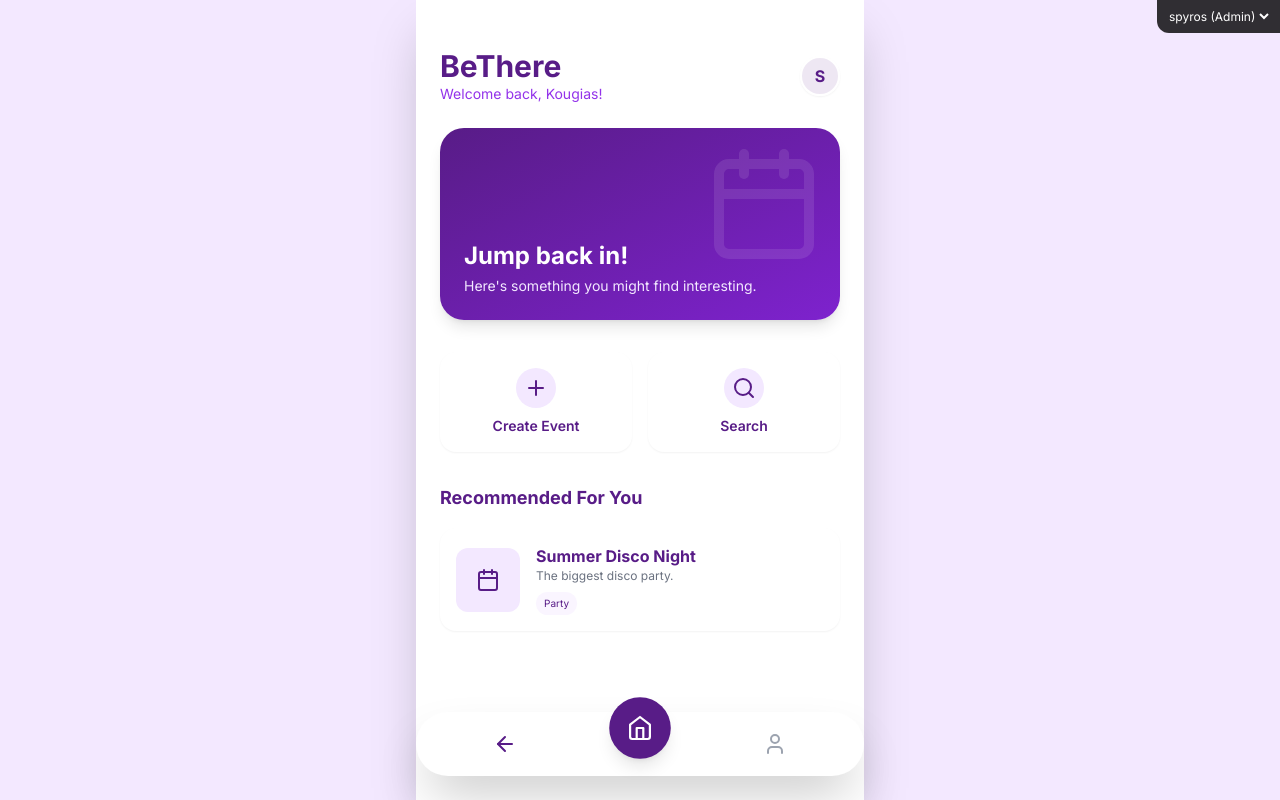
Test: Deliverable 2: User Flows (Frontend Only) › Flow 5 (Happy): User vouches for an event and then unvouches it
Click the heading "Summer Disco Night".
click(616, 556)  # box [536,546,696,566]
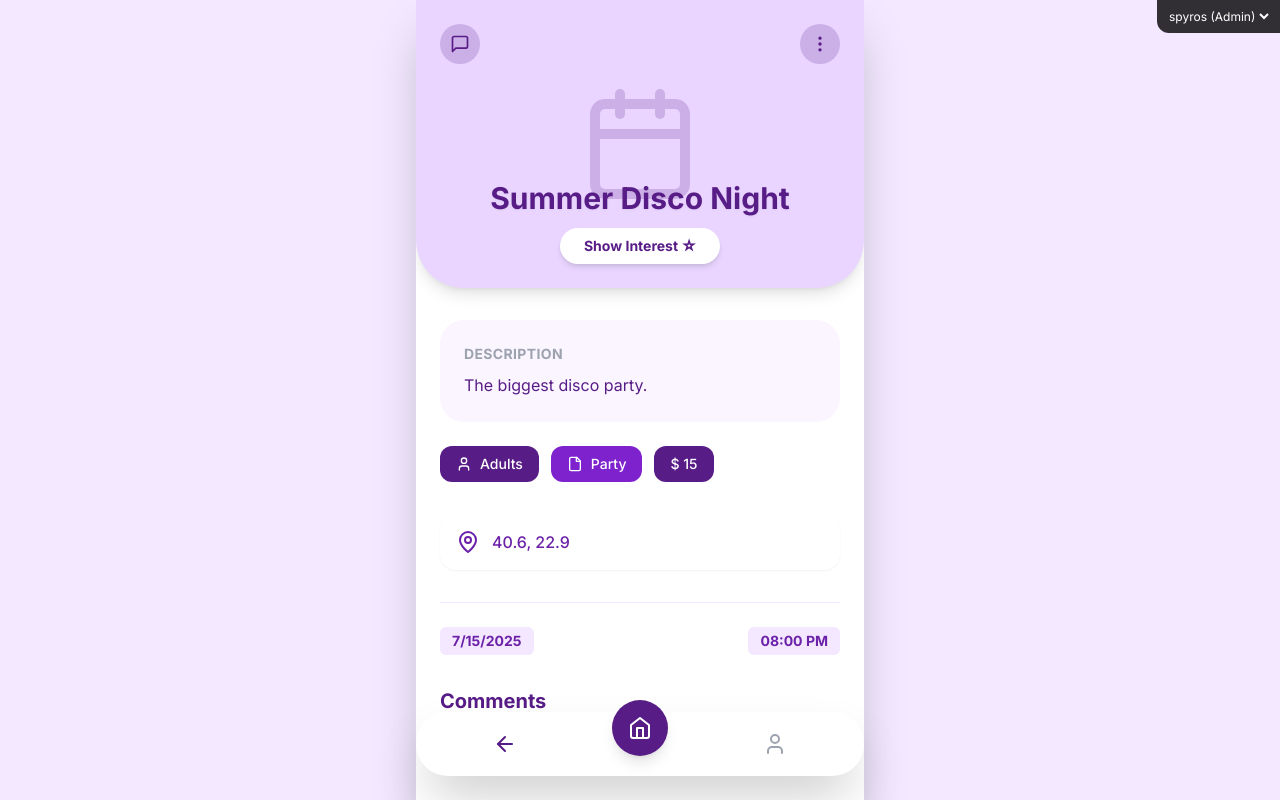
Click the 2nd button.
click(820, 44)  # box [800,24,840,64]
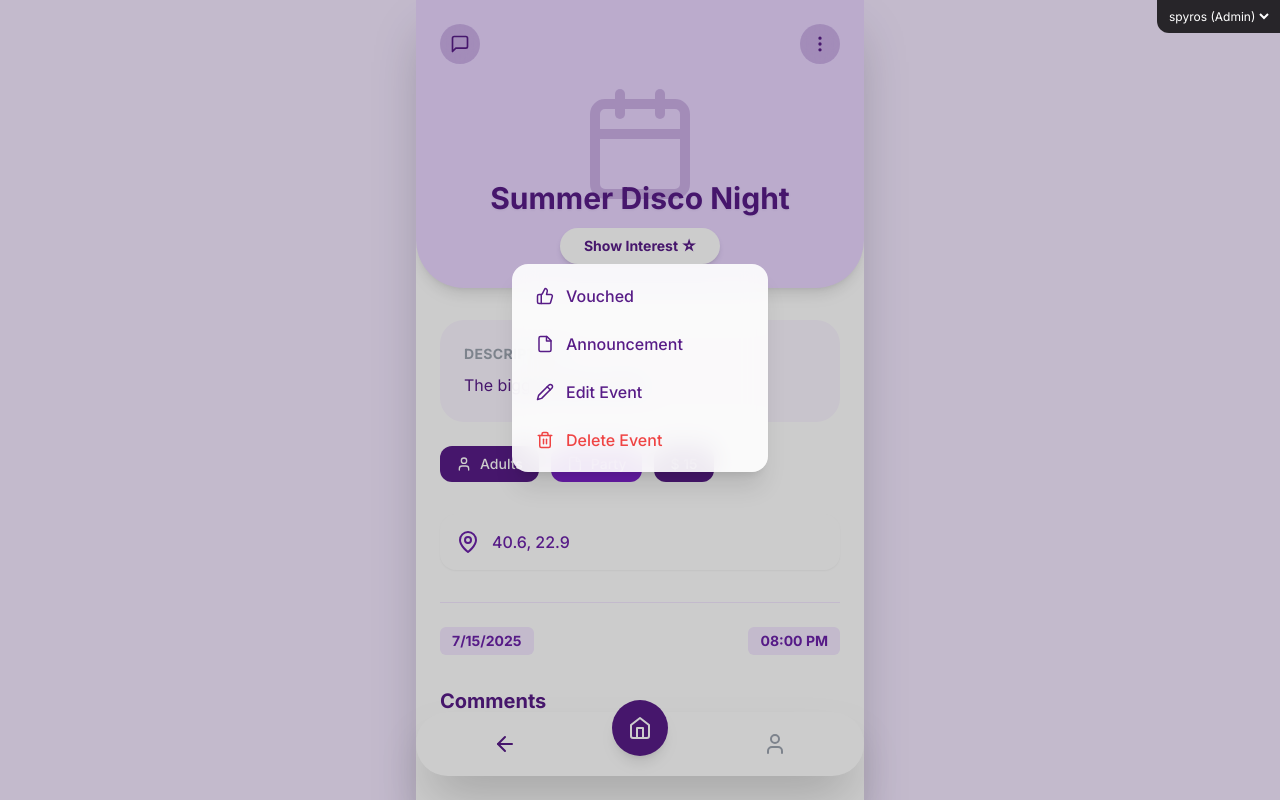
Expected: the button "Vouched" is shown
// Click Vouch
Click the button "Vouched".
click(640, 296)  # box [520,272,760,320]
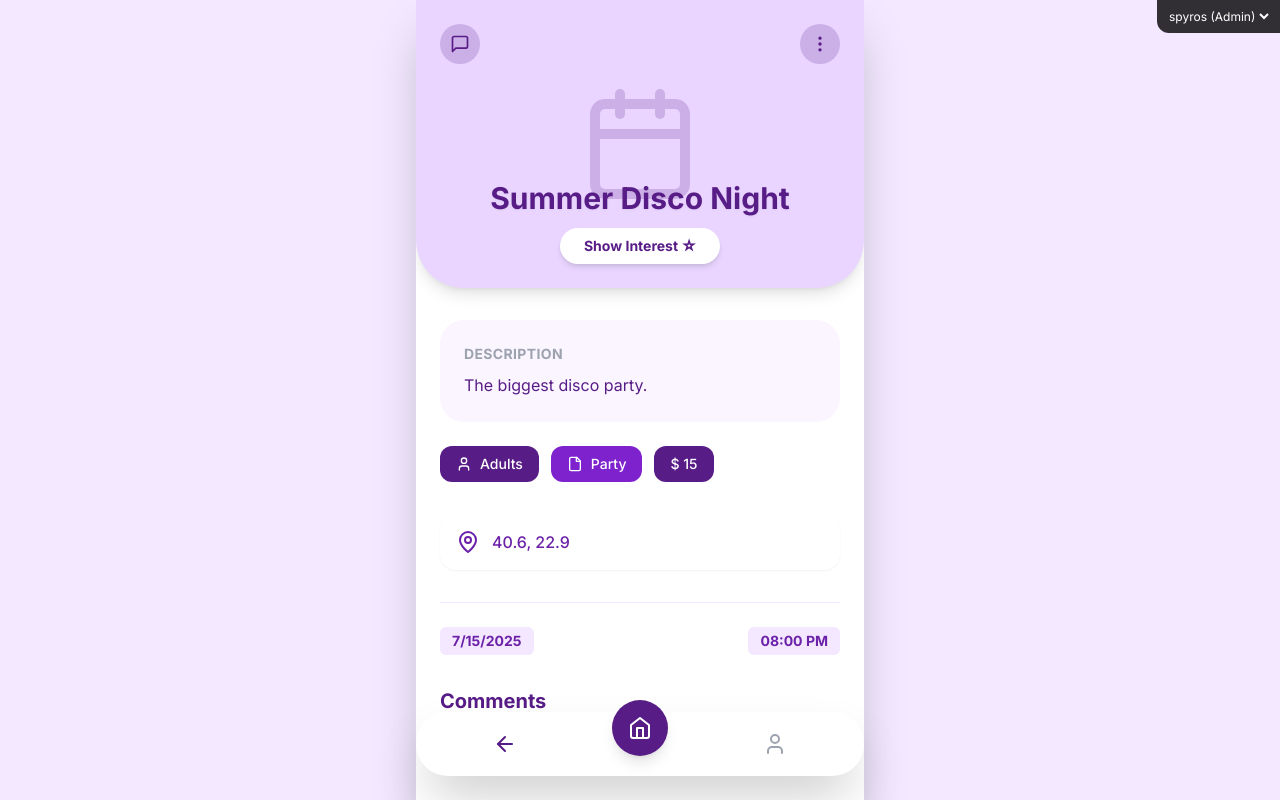
Click the 2nd button.
click(820, 44)  # box [800,24,840,64]
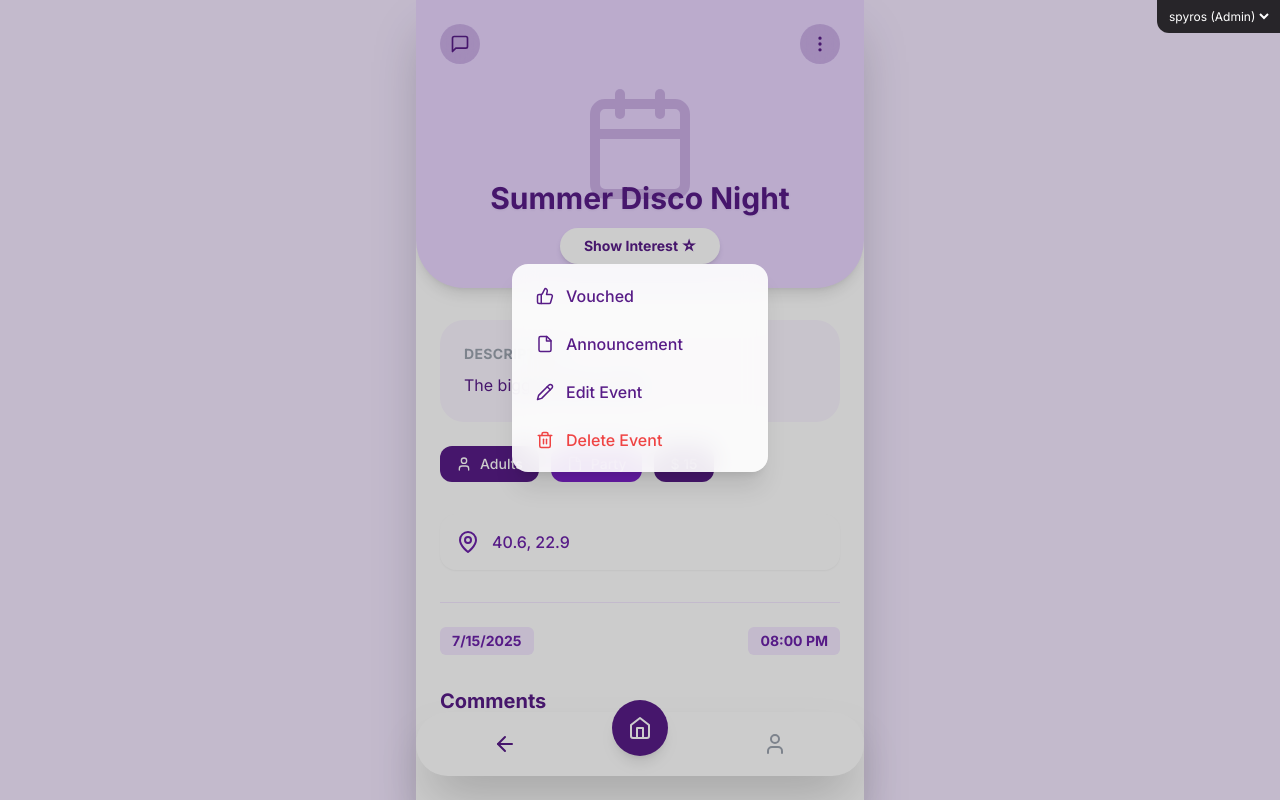
Expected: the button "Vouched" is shown
// Click Vouched (to unvouch)
Click the button "Vouched".
click(640, 296)  # box [520,272,760,320]
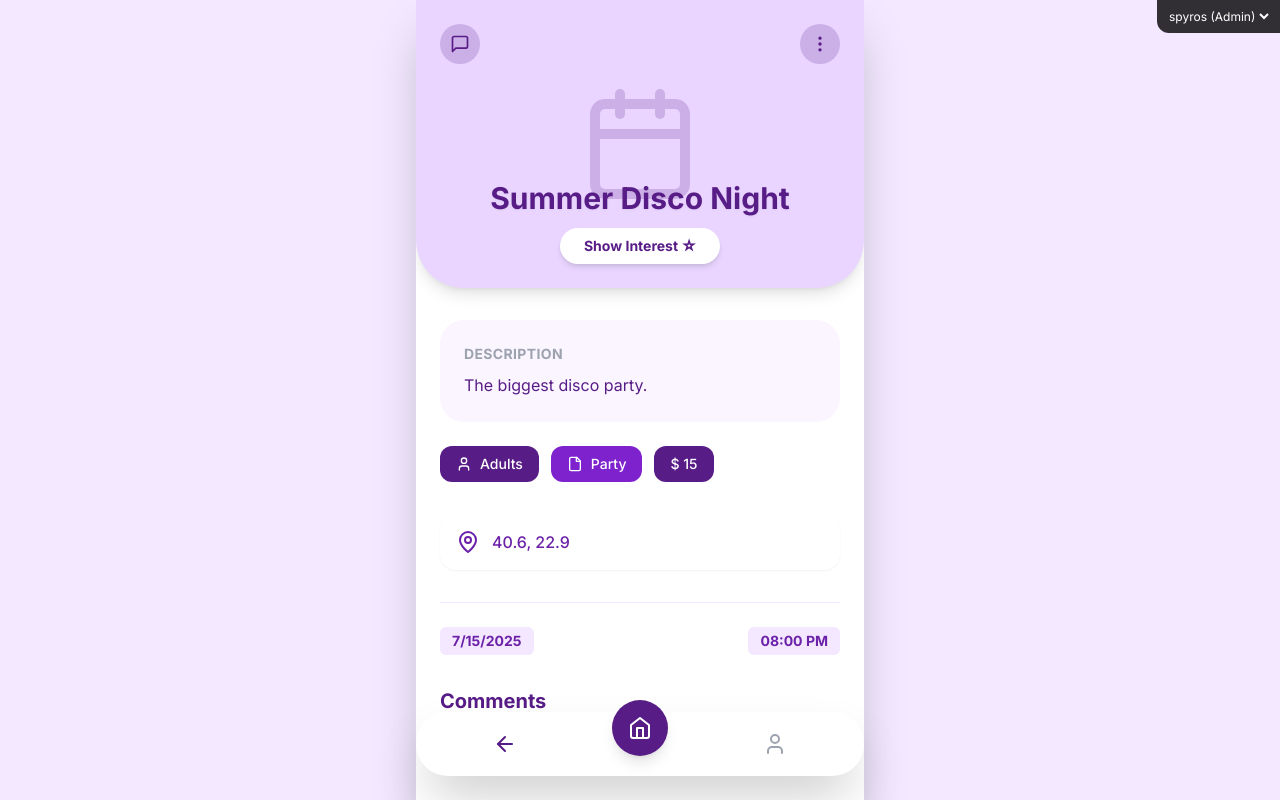
Click the 2nd button.
click(820, 44)  # box [800,24,840,64]
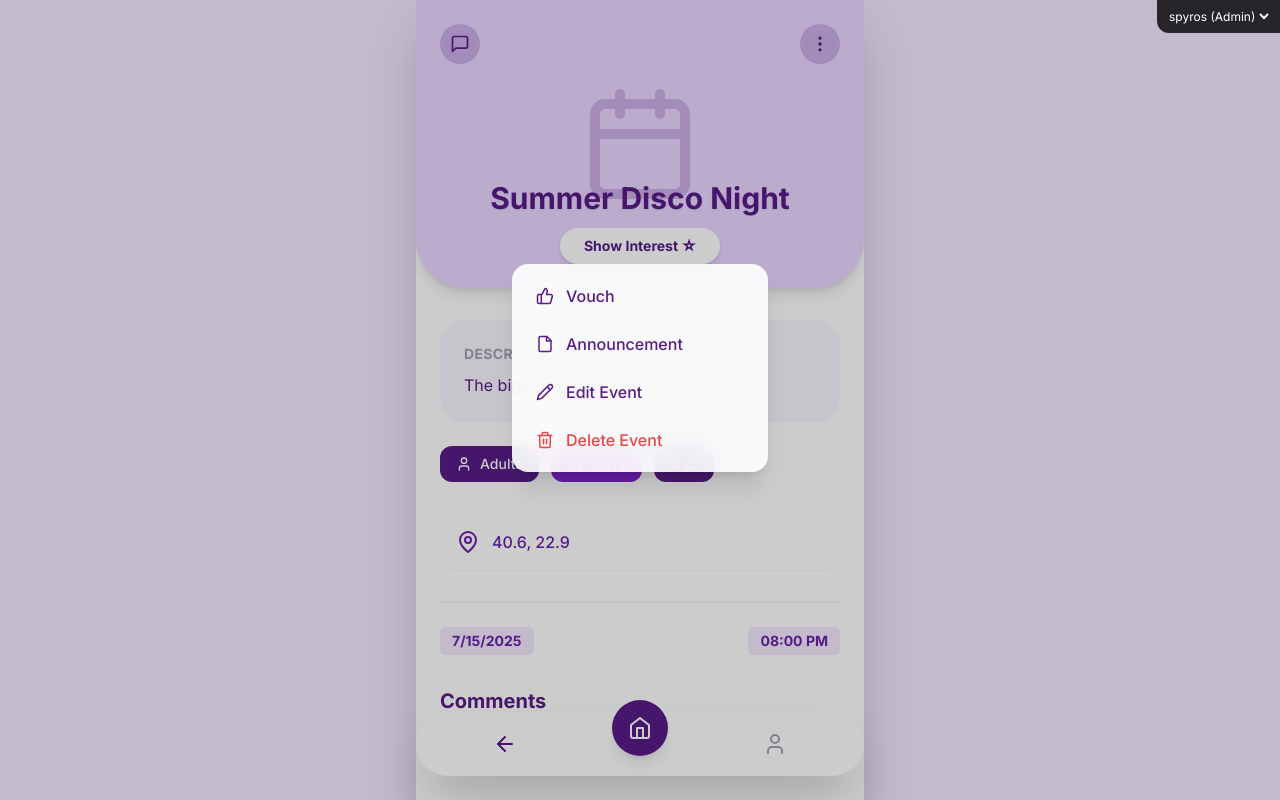
Expected: the button "Vouch" is shown, [520,272,760,320]
